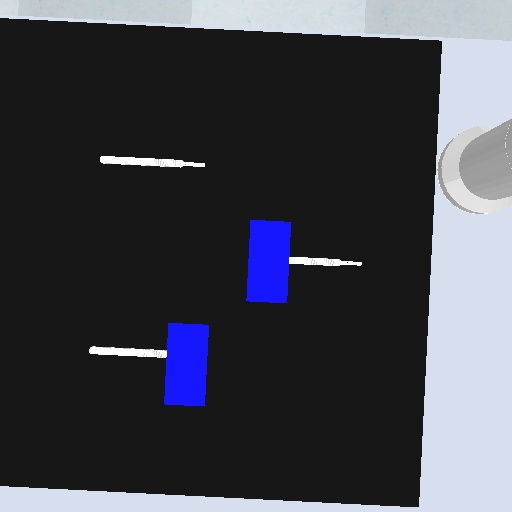bisturi: (96, 151, 209, 171), (287, 253, 366, 271), (86, 343, 169, 360)
